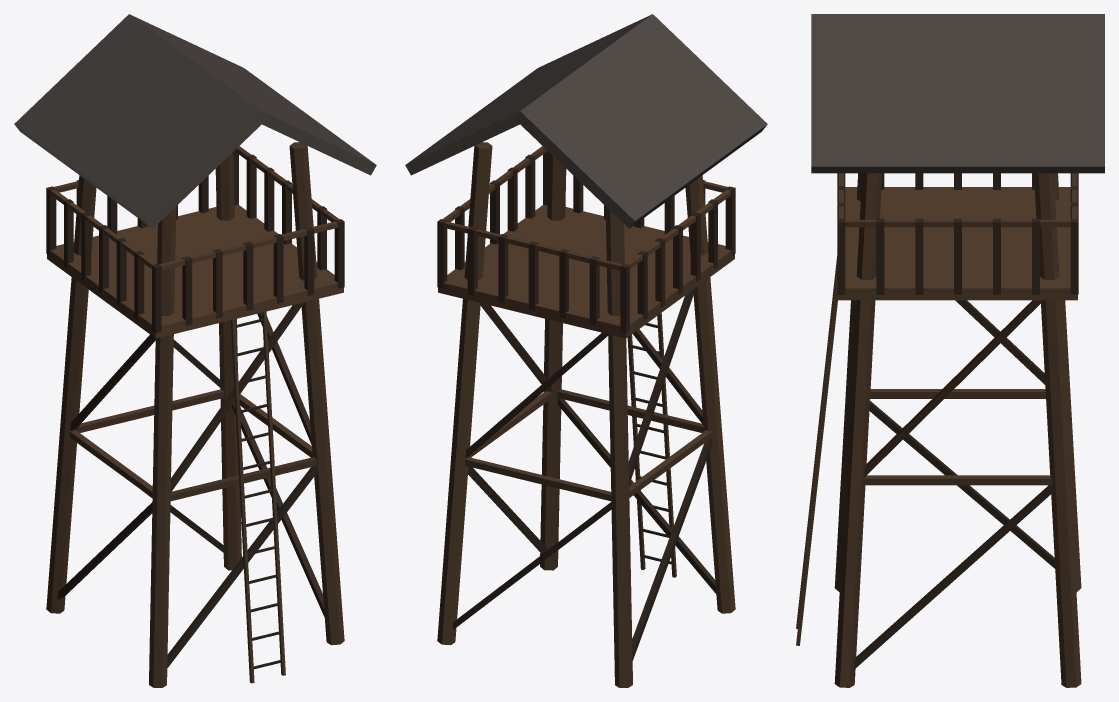
File: watchtower.glb
3 renders of one model, left to right at view 1: azimuth 30°, elevation 25°; view 2: azimuth 150°, elevation 25°; view 3: azimuth 270°, elevation 25°, orthographic. The views are drawn at different scales.
Parts seen in each view (by area): view 1: watchtower; view 2: watchtower; view 3: watchtower.
Boxes of the visible parts, <box> form: watchtower: <box>14,14,376,687</box>; watchtower: <box>405,14,767,687</box>; watchtower: <box>796,14,1104,687</box>.
Bounding box in the file's own units: 4.4 × 10.31 × 4.63.
Materials: 1 (1 with a texture image).
